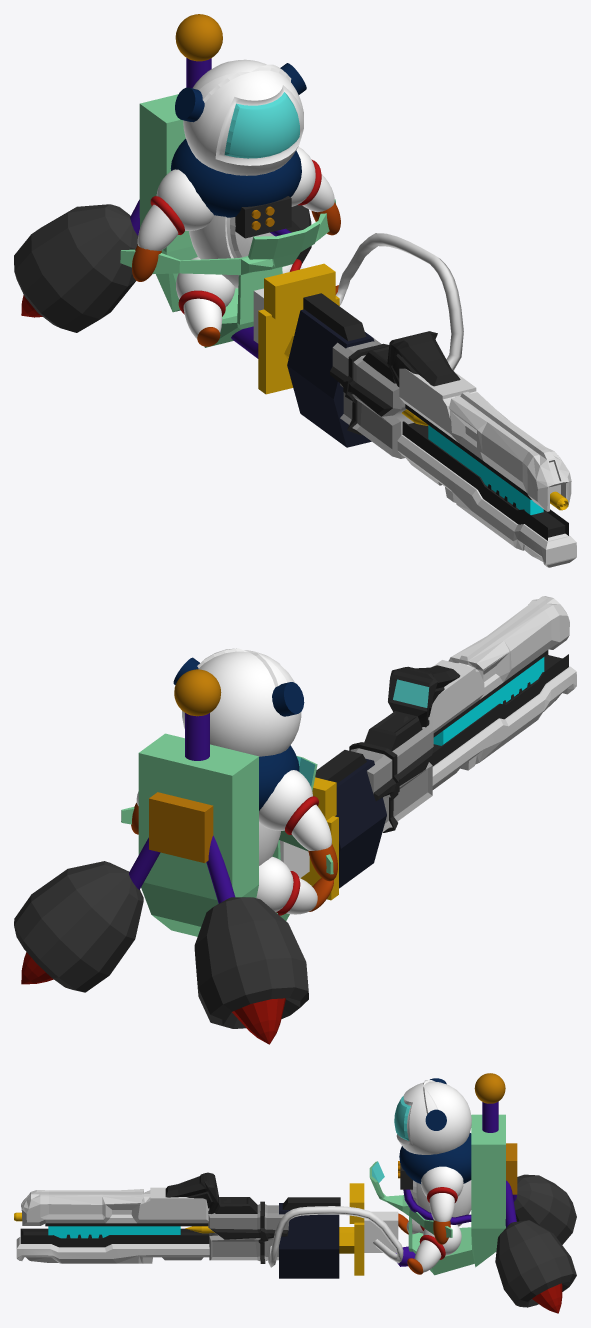
Rendered from Character4.FBX.
3 renders of one model, top to bottom at view 1: azimuth 30°, elevation 25°; view 2: azimuth 150°, elevation 25°; view 3: azimuth 270°, elevation 25°, orthographic. The views are drawn at different scales.
Visible parts, largest first — view 1: RightThruster, Head, Pack, HaloUpper, HaloLower, GunBase, GunSupport, HaloBase, HaloSight, Neck, GunPowerCable, Body (+10 smaller); view 2: Pack, RightThruster, RightThruster001, HaloUpper, Head, HaloLower, HaloSight, HaloBase, GunBase, PackAttach, RightShoulder, AntenaCap (+11 smaller); view 3: Pack, HaloUpper, RightThruster001, HaloLower, Head, GunBase, HaloBase, RightThruster, HaloSight, GunPowerCable, Neck, GunSupport (+13 smaller).
Part boxes in pixels (<box>): RightThruster: <box>14,199,139,332</box>; Head: <box>183,59,303,175</box>; Pack: <box>120,94,335,347</box>; HaloUpper: <box>399,368,571,511</box>; HaloLower: <box>397,421,576,567</box>; GunBase: <box>287,309,374,447</box>; GunSupport: <box>258,263,339,394</box>; HaloBase: <box>330,338,413,458</box>; HaloSight: <box>303,293,460,386</box>; Neck: <box>170,139,301,217</box>; GunPowerCable: <box>335,233,463,370</box>; Body: <box>189,215,274,288</box>; Pack: <box>121,733,333,936</box>; RightThruster: <box>194,835,308,1044</box>; RightThruster001: <box>14,837,160,992</box>; HaloUpper: <box>428,596,569,737</box>; Head: <box>182,648,301,756</box>; HaloLower: <box>429,654,576,789</box>; HaloSight: <box>315,665,460,783</box>; HaloBase: <box>349,725,433,832</box>; GunBase: <box>335,758,386,888</box>; PackAttach: <box>149,792,213,863</box>; RightShoulder: <box>259,770,312,830</box>; AntenaCap: <box>174,669,221,716</box>; Pack: <box>369,1114,505,1275</box>; HaloUpper: <box>21,1187,209,1226</box>; RightThruster001: <box>495,1180,576,1313</box>; HaloLower: <box>16,1228,209,1263</box>; Head: <box>394,1080,471,1154</box>; GunBase: <box>279,1203,339,1278</box>; HaloBase: <box>208,1201,289,1263</box>; RightThruster: <box>513,1174,576,1244</box>; HaloSight: <box>165,1172,340,1213</box>; GunPowerCable: <box>268,1206,403,1267</box>; Neck: <box>399,1133,471,1183</box>; GunSupport: <box>339,1183,364,1275</box>.
Bounding box in the file's own units: 40.2 × 41.97 × 105.
